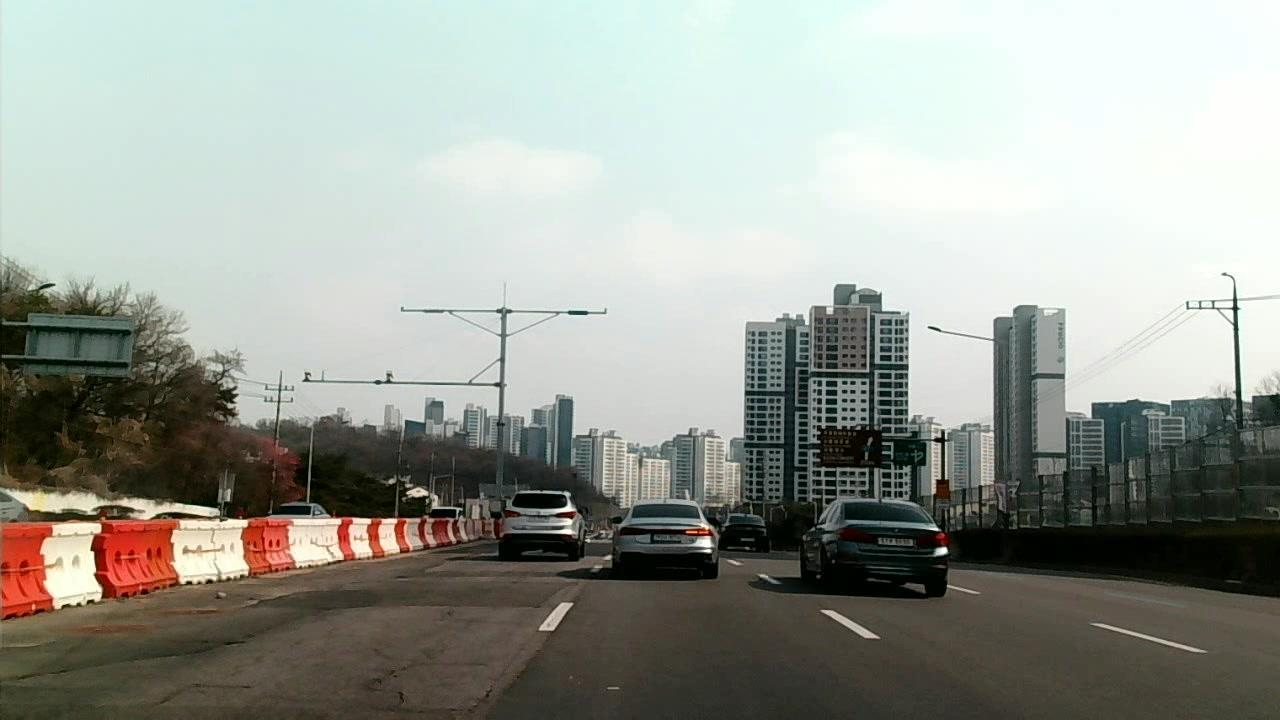vcrack: (469, 682, 503, 714), (391, 686, 408, 712)
